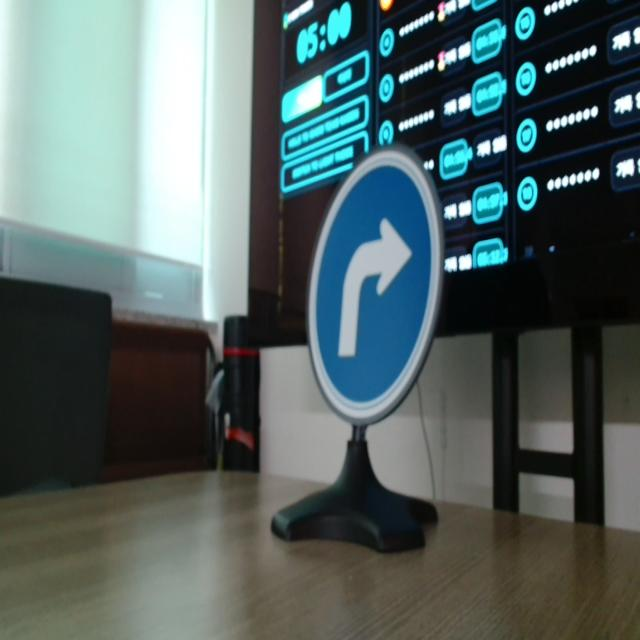right_dierection: (302, 151, 445, 421)
